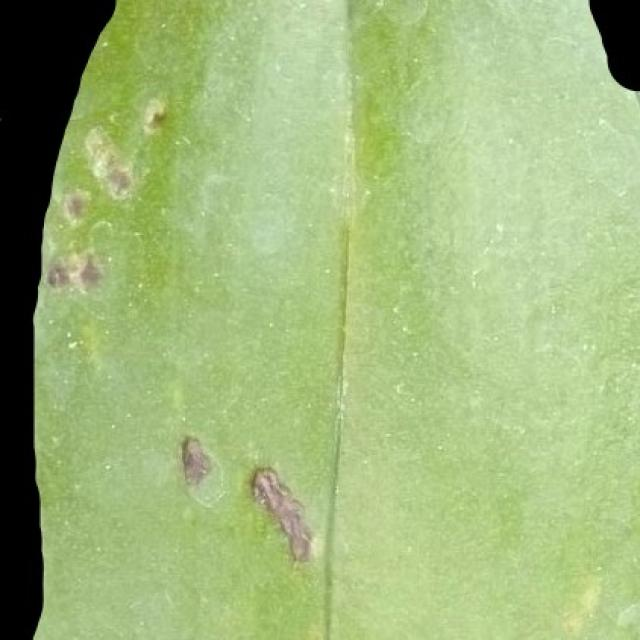mite: (45, 88, 323, 573), (44, 185, 109, 294), (585, 0, 638, 93), (80, 123, 133, 200), (44, 249, 103, 293), (133, 89, 176, 140), (102, 162, 132, 197), (76, 253, 103, 290), (141, 96, 168, 132), (62, 188, 89, 221), (44, 259, 71, 290), (0, 103, 5, 129)
sunburn: (244, 463, 317, 569)
